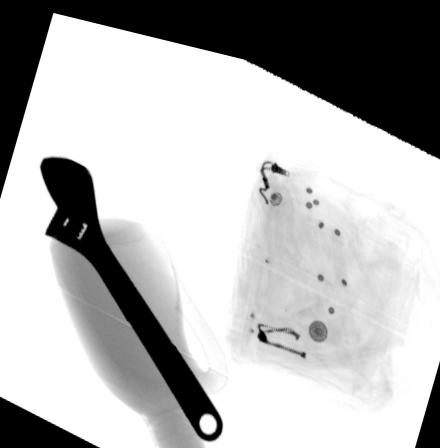Wrench: (38, 152, 224, 431)
